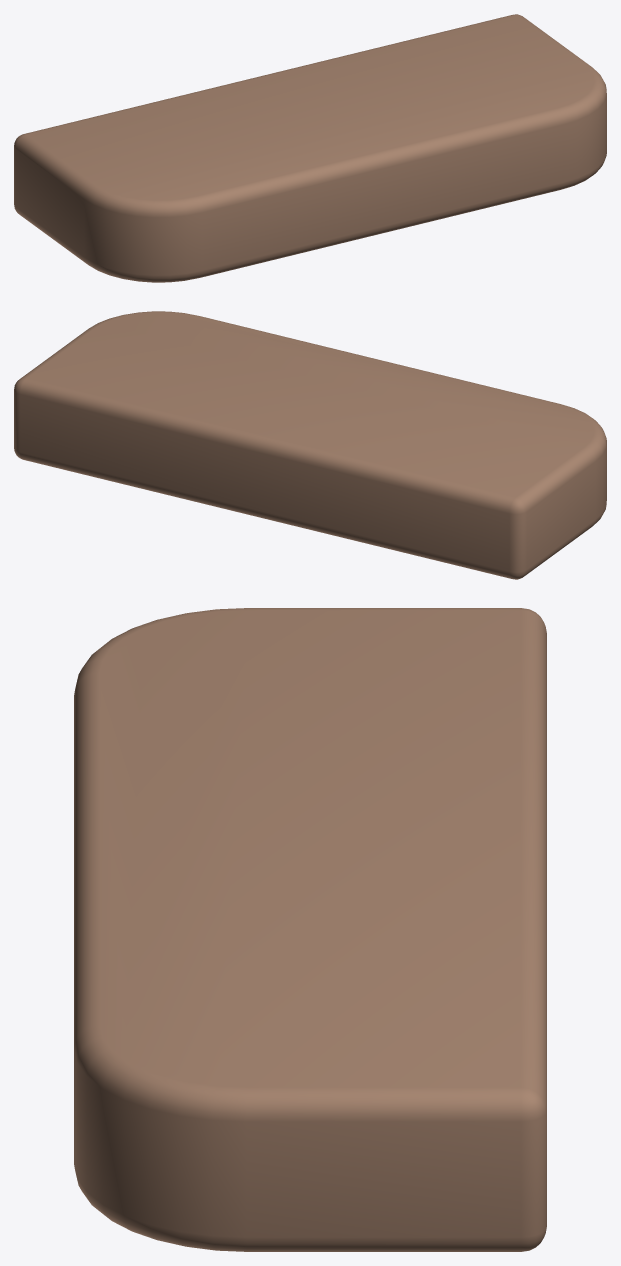
File: shelf.glb
3 views of the same model, one above another, from view 1: azimuth 30°, elevation 25°; view 2: azimuth 150°, elevation 25°; view 3: azimuth 270°, elevation 25° (orthographic). The views are drawn at different scales.
Visible parts, largest first — view 1: Shelf; view 2: Shelf; view 3: Shelf.
Part boxes in pixels (<box>): Shelf: <box>14,14,606,282</box>; Shelf: <box>14,311,606,579</box>; Shelf: <box>74,608,546,1251</box>.
Bounding box in the file's own units: 2.28 × 0.3464 × 0.9151.
